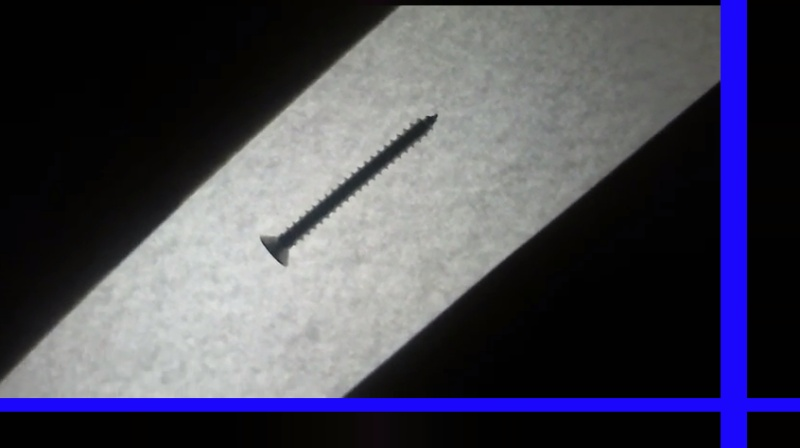S002: (253, 109, 439, 267)
